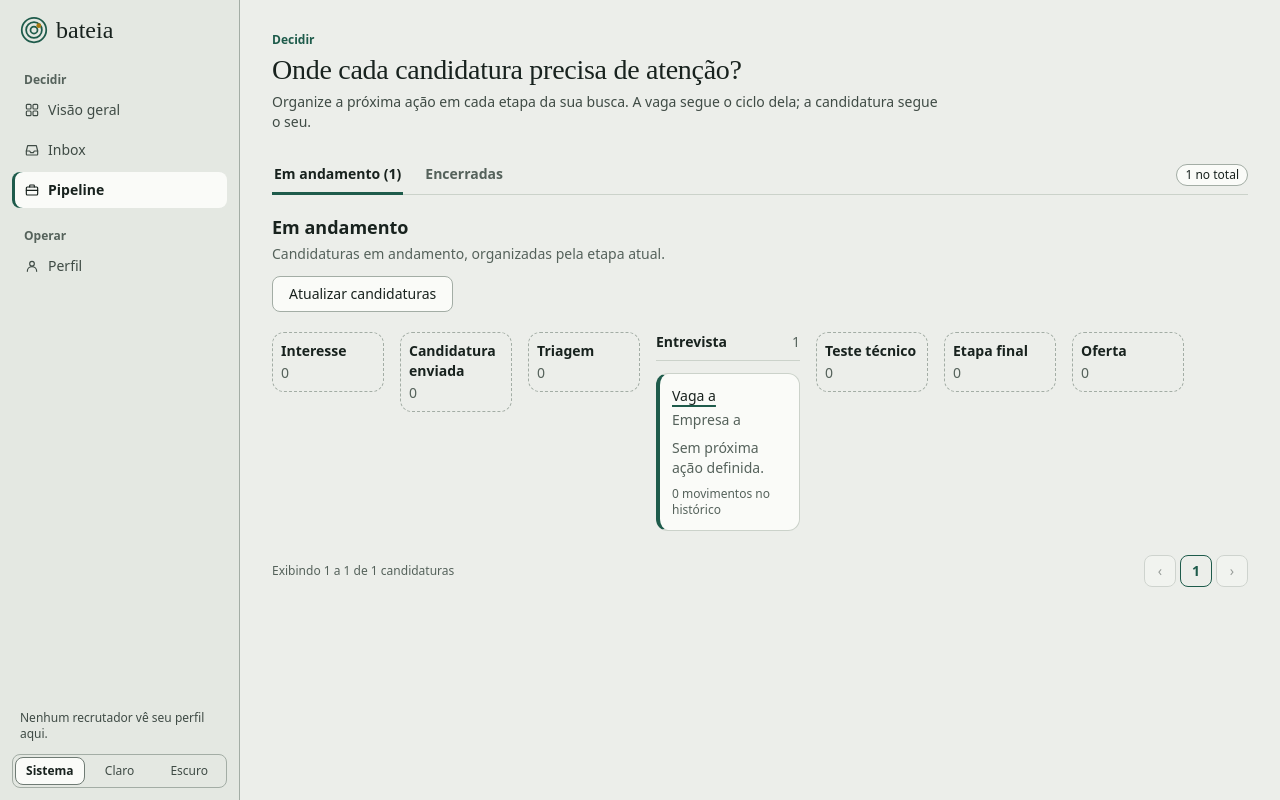
Scenario: PipelinePage — quadro por etapa › o seletor de visão troca o que é mostrado e expõe o estado em aria-pressed
Expected: the text "Vaga z" is not shown
Click the button "Encerradas": (464, 176) [423,156,505,195]
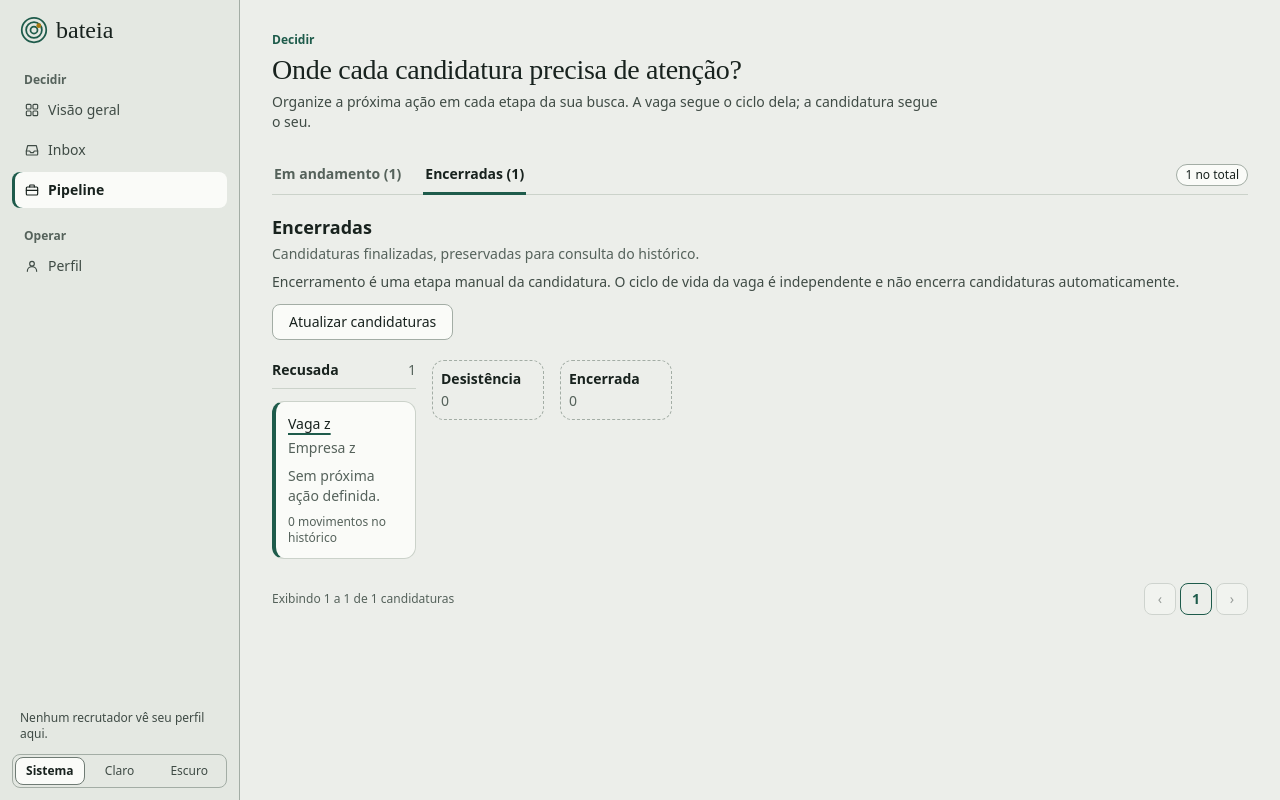
Result: the text "Vaga z" is shown at [288,414,331,434]
Result: the text "Vaga a" is gone
